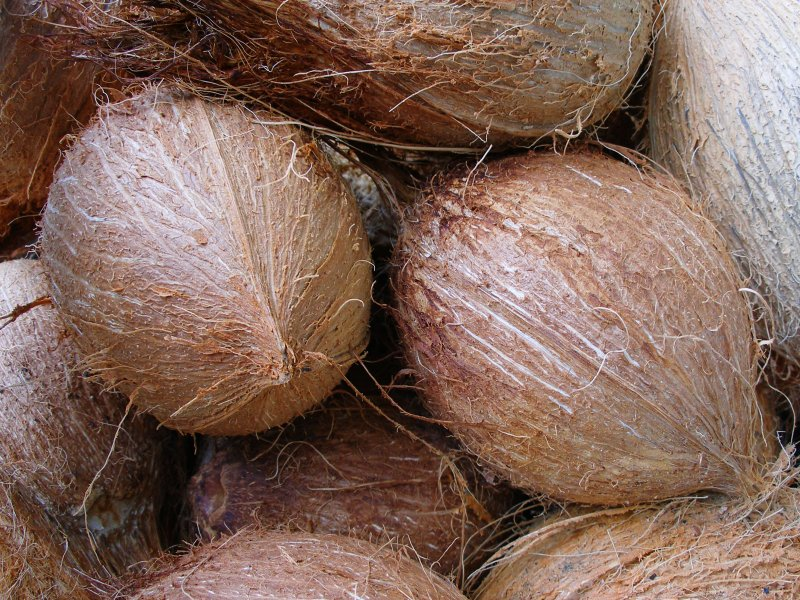coconut: (397, 150, 772, 492), (37, 80, 367, 418), (192, 4, 643, 146), (1, 263, 147, 598), (660, 2, 800, 301), (194, 428, 504, 548), (483, 514, 791, 600), (1, 9, 130, 202), (134, 538, 446, 600)
